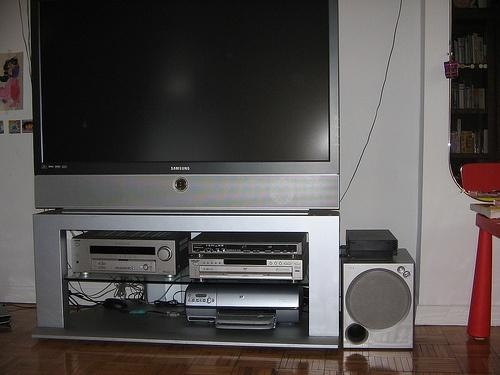tvmonitor: (34, 1, 341, 213)
